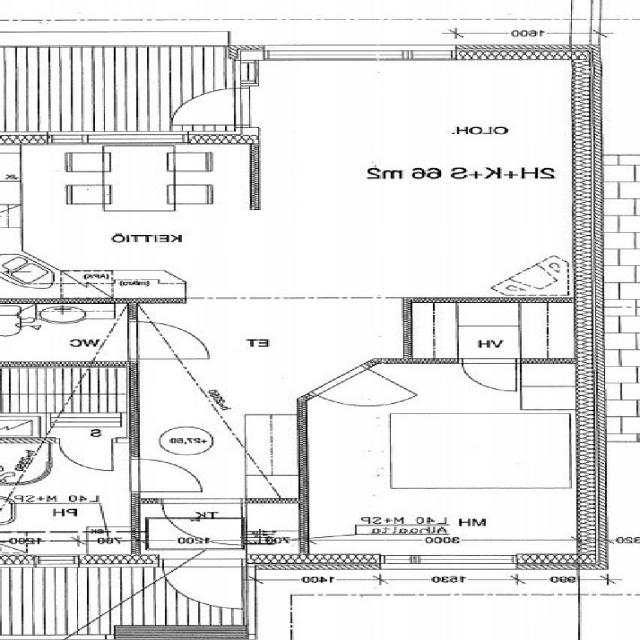door: (310, 366, 418, 422), (162, 554, 241, 610), (161, 498, 241, 545), (158, 88, 259, 124), (128, 322, 210, 359), (128, 460, 199, 491), (462, 358, 516, 392), (59, 436, 111, 471)
